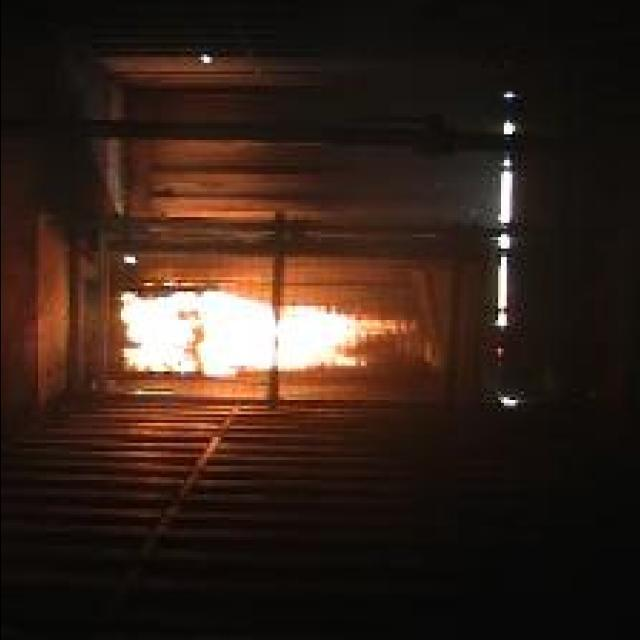Fire: (118, 292, 416, 378)
